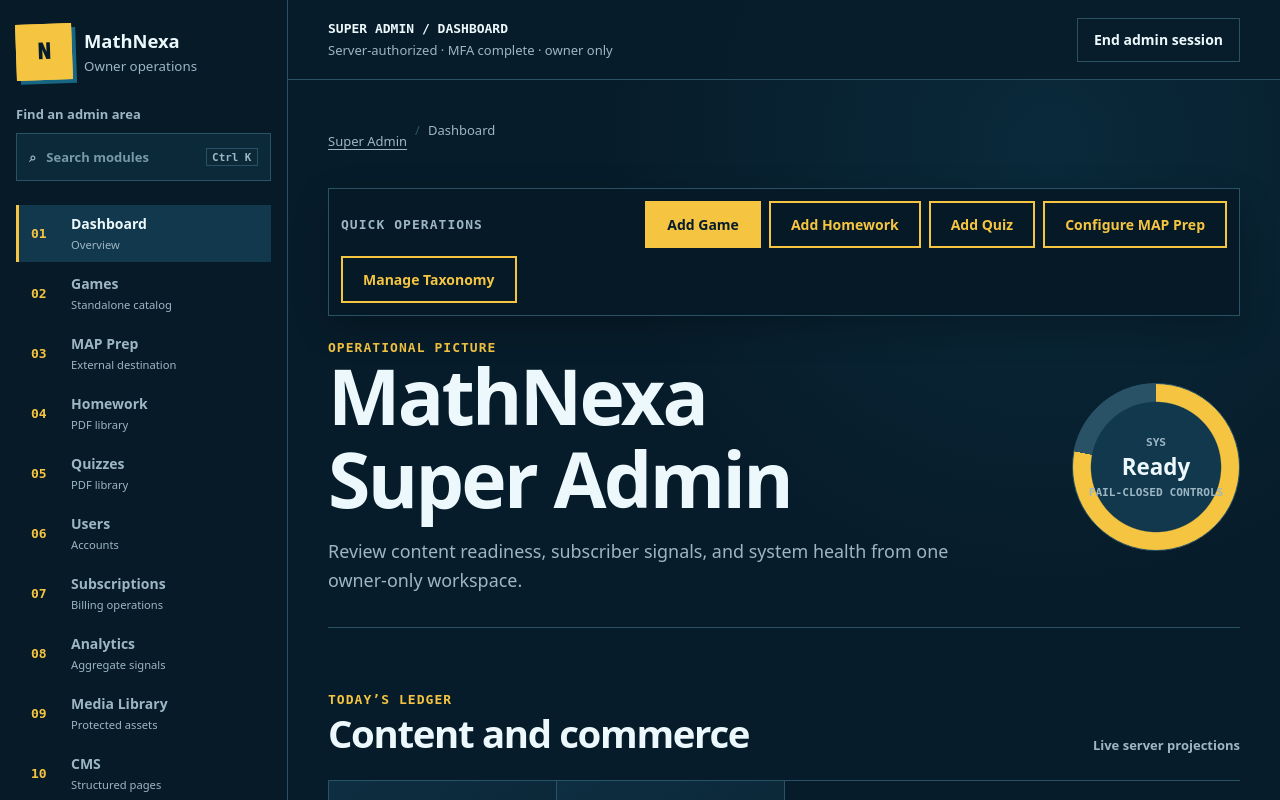
Test: Phase 8C admin command center › opens and filters the command interface from the keyboard
Press k
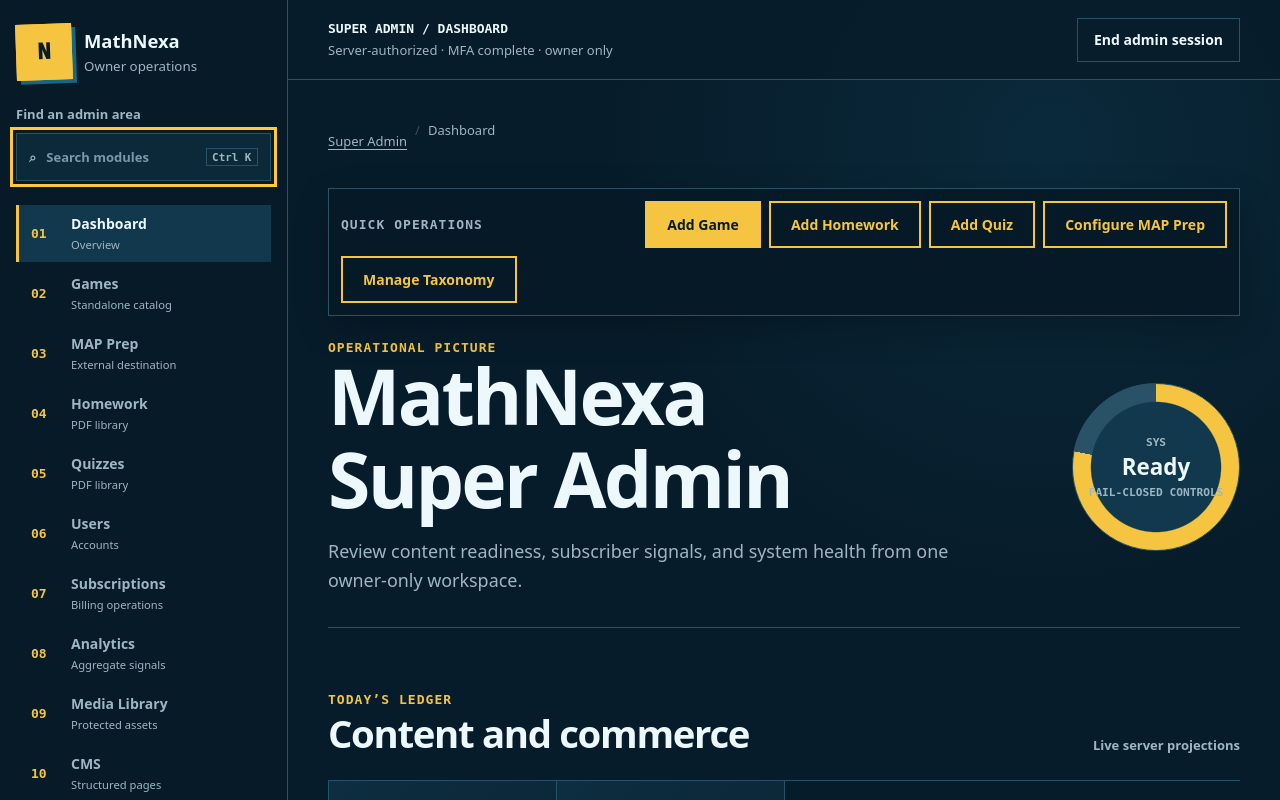
Type "quiz" into the search field labelled "Find an admin area" at (121, 157), box [44,146,198,168]
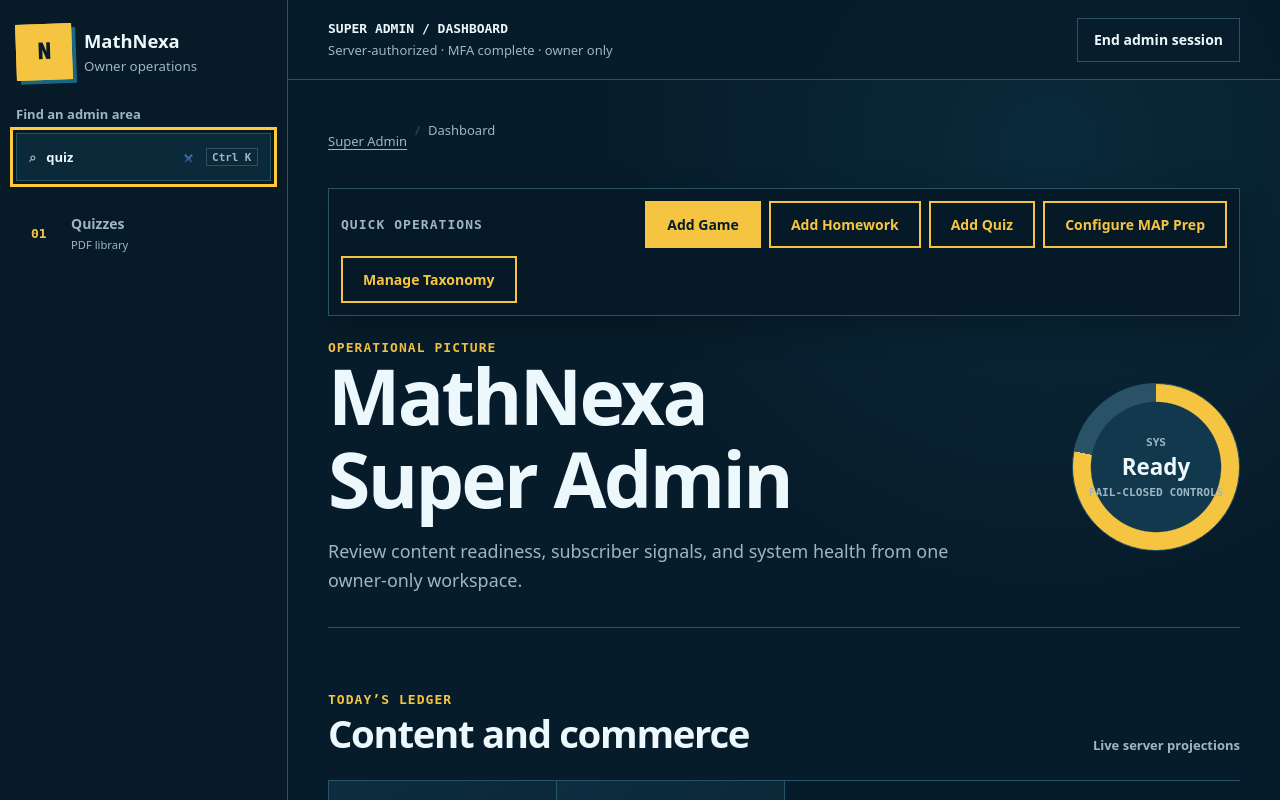
Expected: the link "01 Quizzes PDF library" is shown, [31,214,128,252]
Expected: the link "Subscriptions" is gone
Replace the text in the search field labelled "Find an admin area" with "missing module" at (121, 157), box [44,146,198,168]
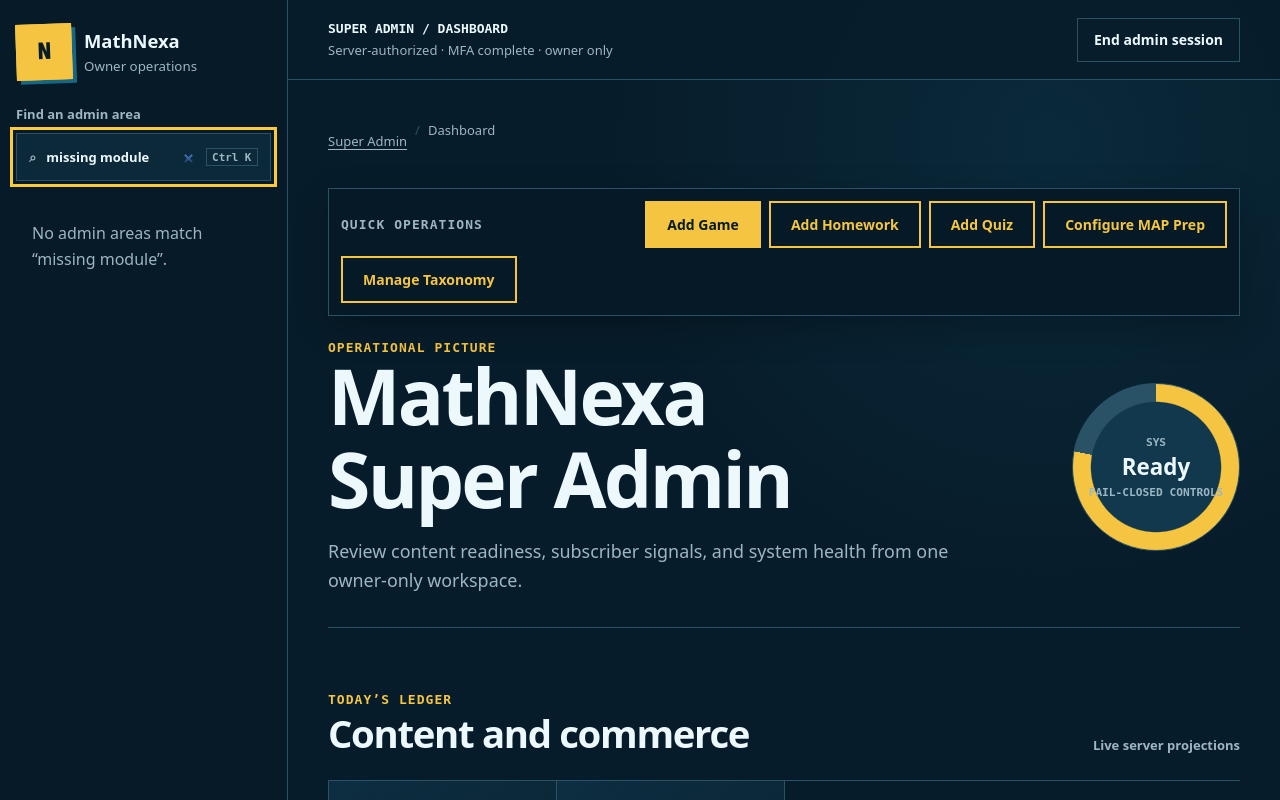
Expected: the message shows "No admin areas match", [32,222,202,270]
